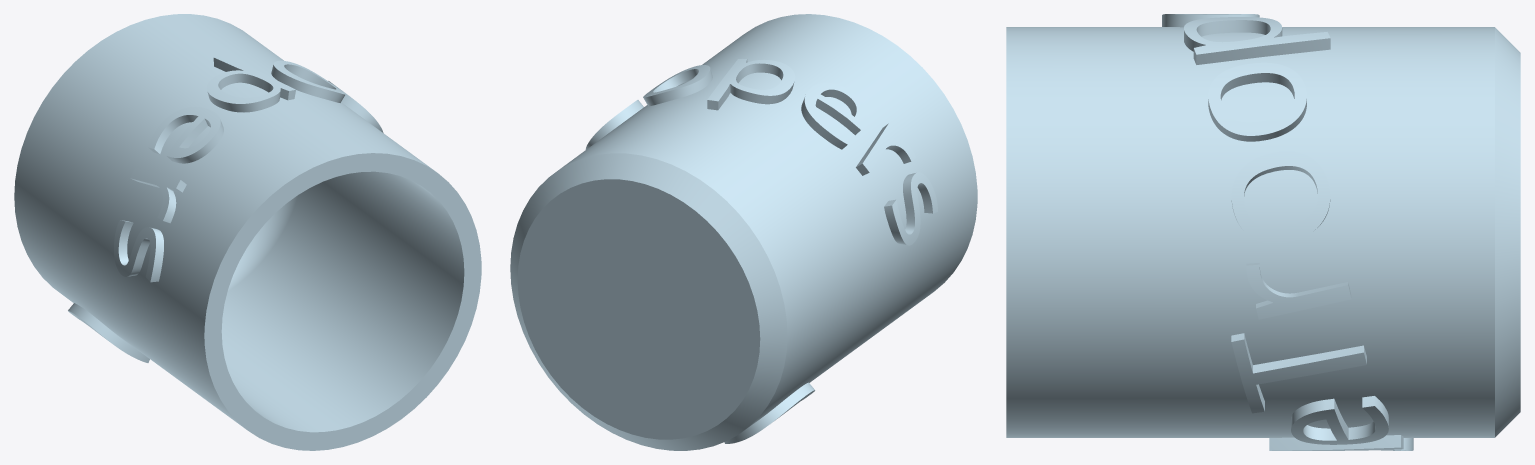
The picture shows the model from 3 angles, left to right: view 1: azimuth 30°, elevation 25°; view 2: azimuth 150°, elevation 25°; view 3: azimuth 270°, elevation 25°; orthographic projection. The views are drawn at different scales.
Parts seen in each view (by area): view 1: Part 1; view 2: Part 1; view 3: Part 1.
Boxes of the visible parts, bbox=[...] form: Part 1: bbox=[14, 14, 481, 450]; Part 1: bbox=[510, 14, 977, 450]; Part 1: bbox=[1006, 14, 1520, 450].
Bounding box in the file's own units: 0.0849 × 0.085 × 0.1.
